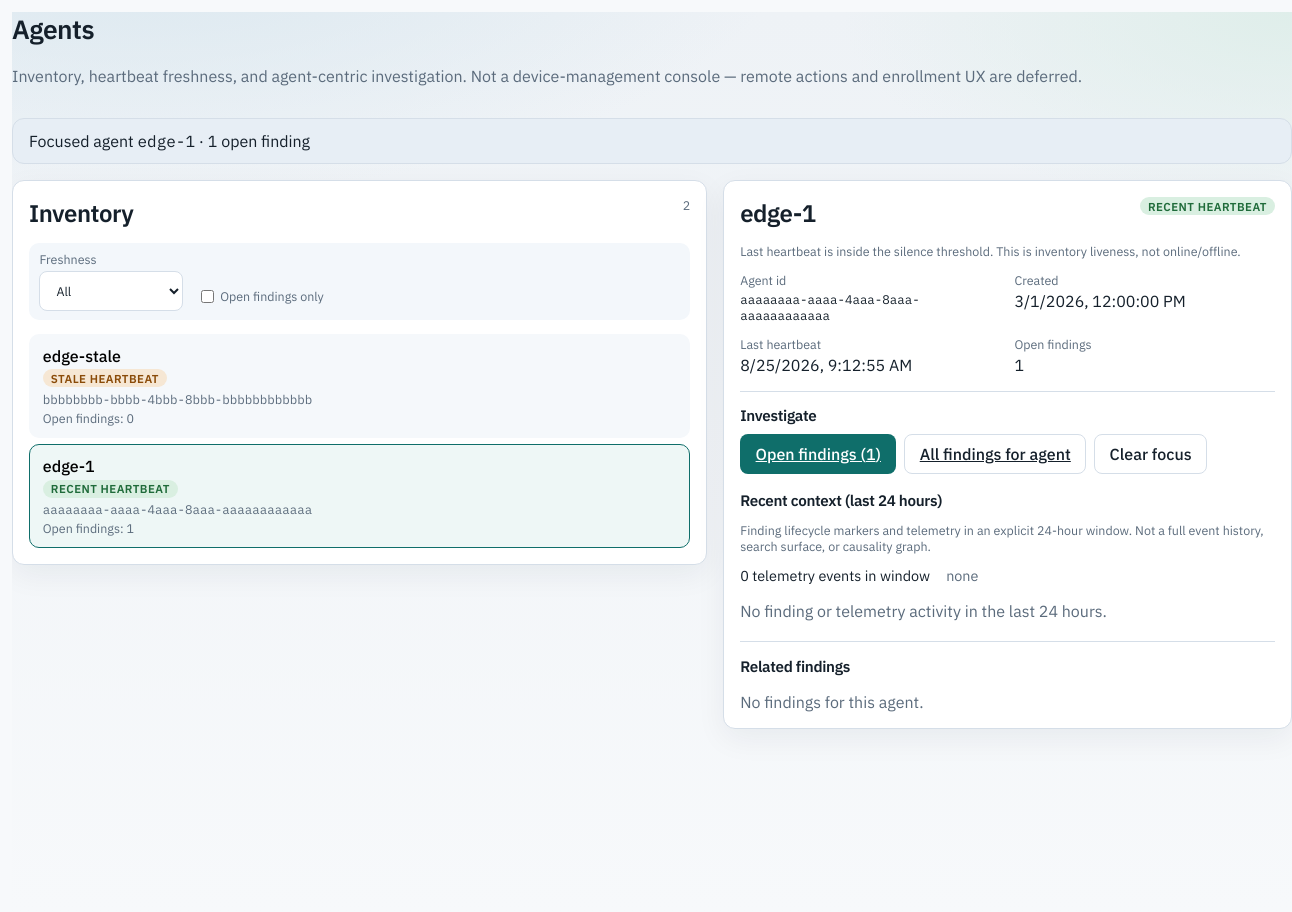
it: AgentsConsoleView › filters inventory via URL and drops focus when selection no longer matches
The width and height of the screenshot is (1292, 912).
Check: the text "Focused agent edge-1 · 1 open finding" is shown, box [12,118,1291,164]
Select "Stale heartbeat" in the dropdown labelled "Freshness". click: (111, 291)
box: [39,271,183,311]
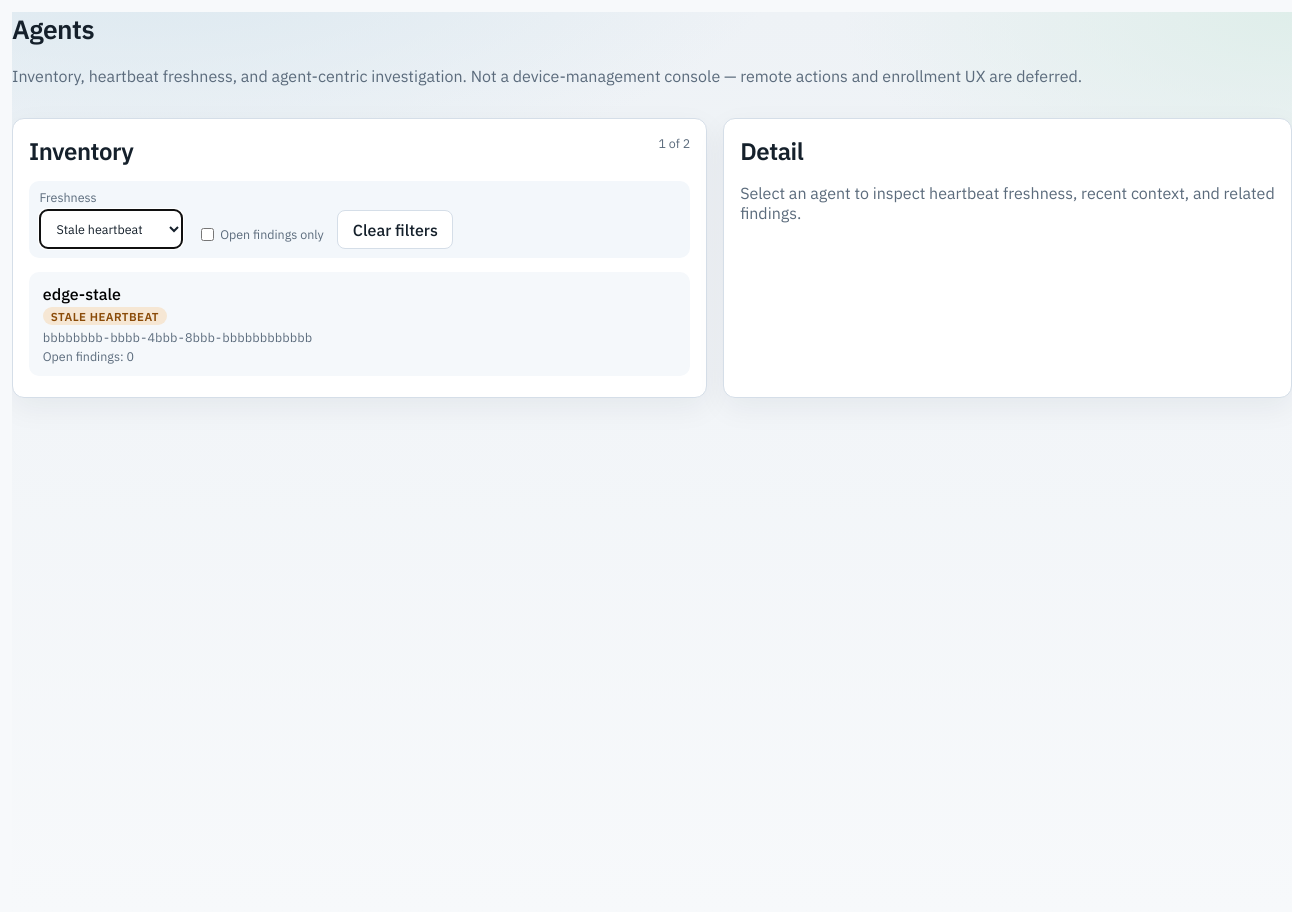
Check: the text "Focused agent" is gone
Check: the text "edge-1" is gone
Check: the text "Select an agent to inspect" is shown, box [740,183,1275,223]
